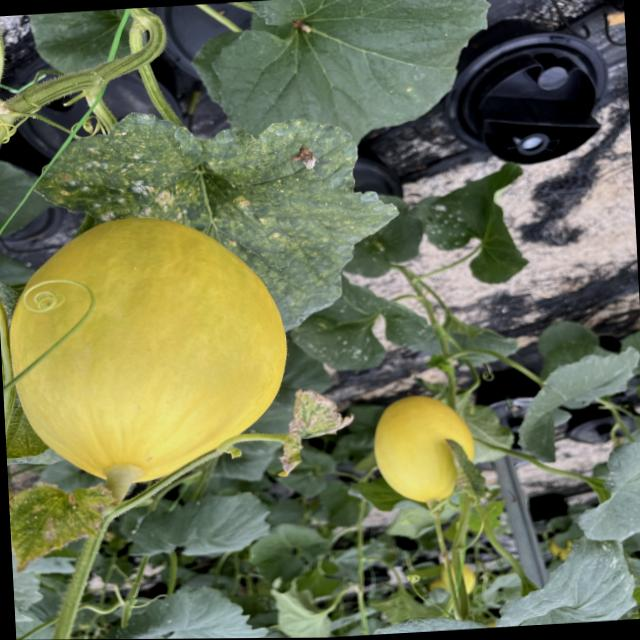bacterial wilt: (8, 470, 122, 566), (270, 381, 362, 480)
downy mildew: (28, 100, 393, 324)
powdery mildew: (29, 100, 394, 353), (482, 526, 640, 628)
